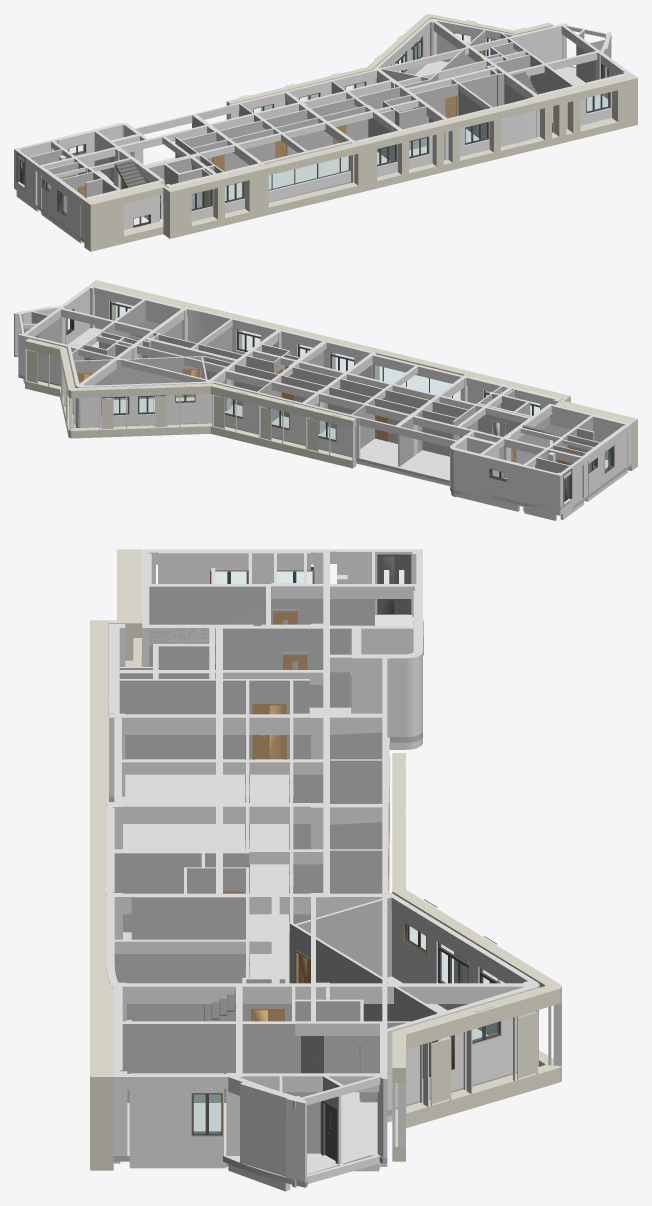
The picture shows the model from 3 angles, top to bottom: view 1: azimuth 30°, elevation 25°; view 2: azimuth 150°, elevation 25°; view 3: azimuth 270°, elevation 25°; orthographic projection. The views are drawn at different scales.
Visible parts, largest first — view 1: 矩形钢管_杆件_30x30x5__2271812__1; view 2: 矩形钢管_杆件_30x30x5__2271812__1; view 3: 矩形钢管_杆件_30x30x5__2271812__1.
Part boxes in pixels (<box>): 矩形钢管_杆件_30x30x5__2271812__1: <box>14,14,637,251</box>; 矩形钢管_杆件_30x30x5__2271812__1: <box>14,280,637,520</box>; 矩形钢管_杆件_30x30x5__2271812__1: <box>90,549,561,1191</box>.
Size of the model in its own units: 48220 by 3991 by 17352.
